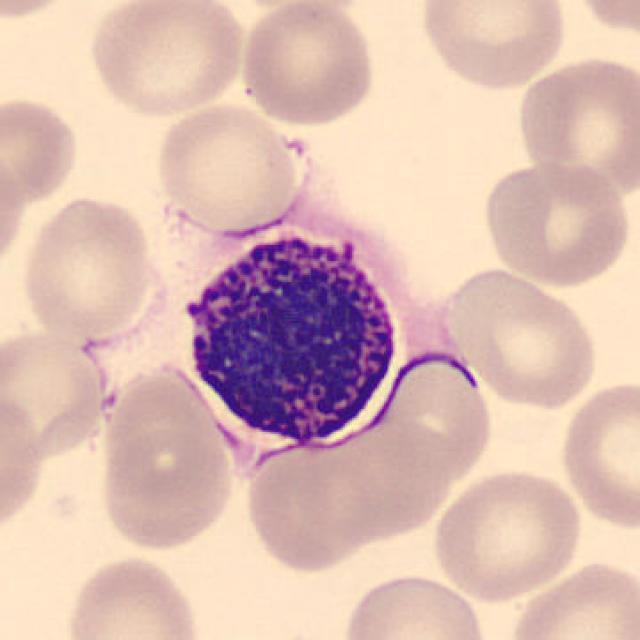Basophil: (172, 213, 410, 468)
RBC: (0, 423, 135, 633), (432, 262, 601, 410), (428, 465, 586, 605), (16, 192, 158, 342), (478, 157, 635, 289), (151, 99, 302, 232), (84, 0, 247, 120), (512, 51, 638, 201), (234, 2, 378, 128), (96, 425, 236, 554), (0, 326, 112, 460), (414, 0, 572, 93), (555, 376, 638, 532), (62, 552, 206, 640), (503, 555, 638, 640), (340, 569, 492, 640), (0, 92, 82, 206), (0, 386, 50, 540), (0, 143, 30, 277), (560, 0, 640, 39), (233, 0, 377, 16), (0, 0, 80, 21)
